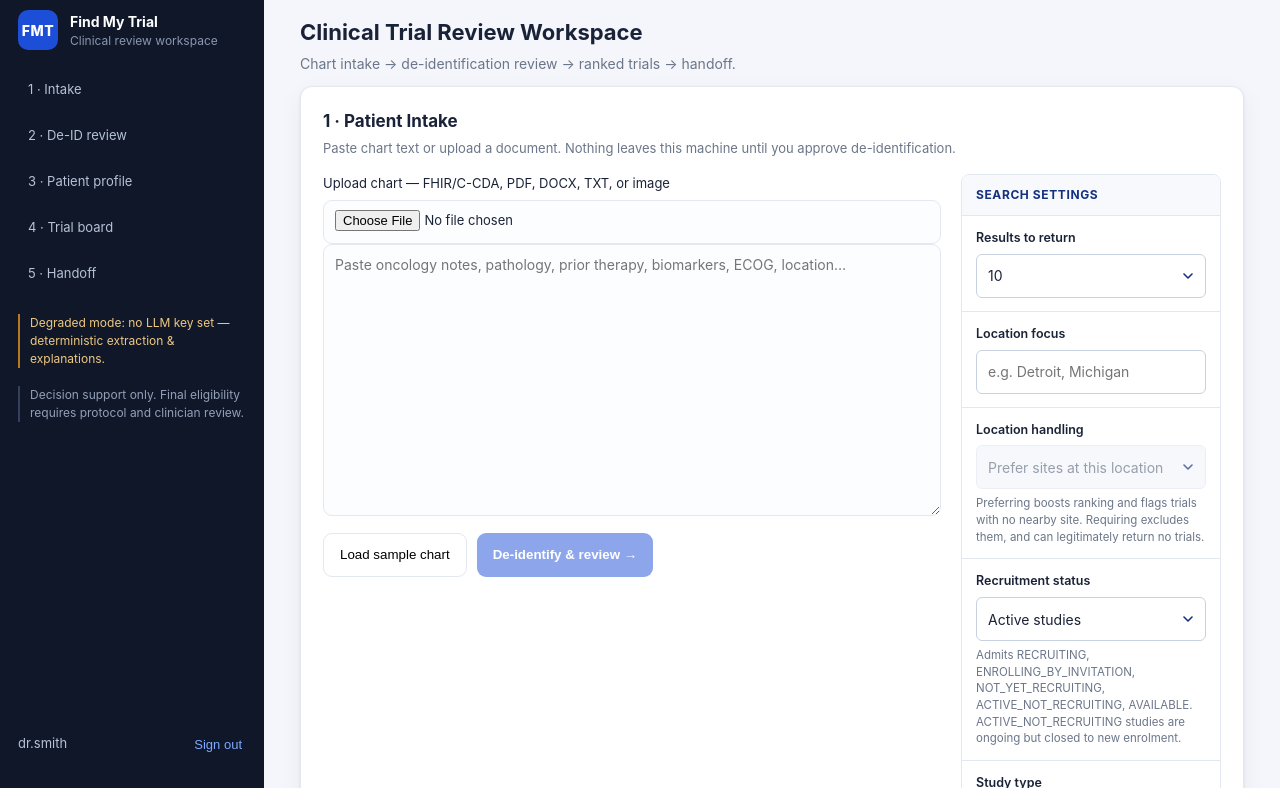
Test: cancel and retry › offers an explicit retry that re-issues the failed request
Expected: the heading "Clinical Trial Review Workspace" is shown, [300,19,643,45]
Replace the text in the text box named "chart text" with "chart" at (632, 380), box [323,244,941,516]
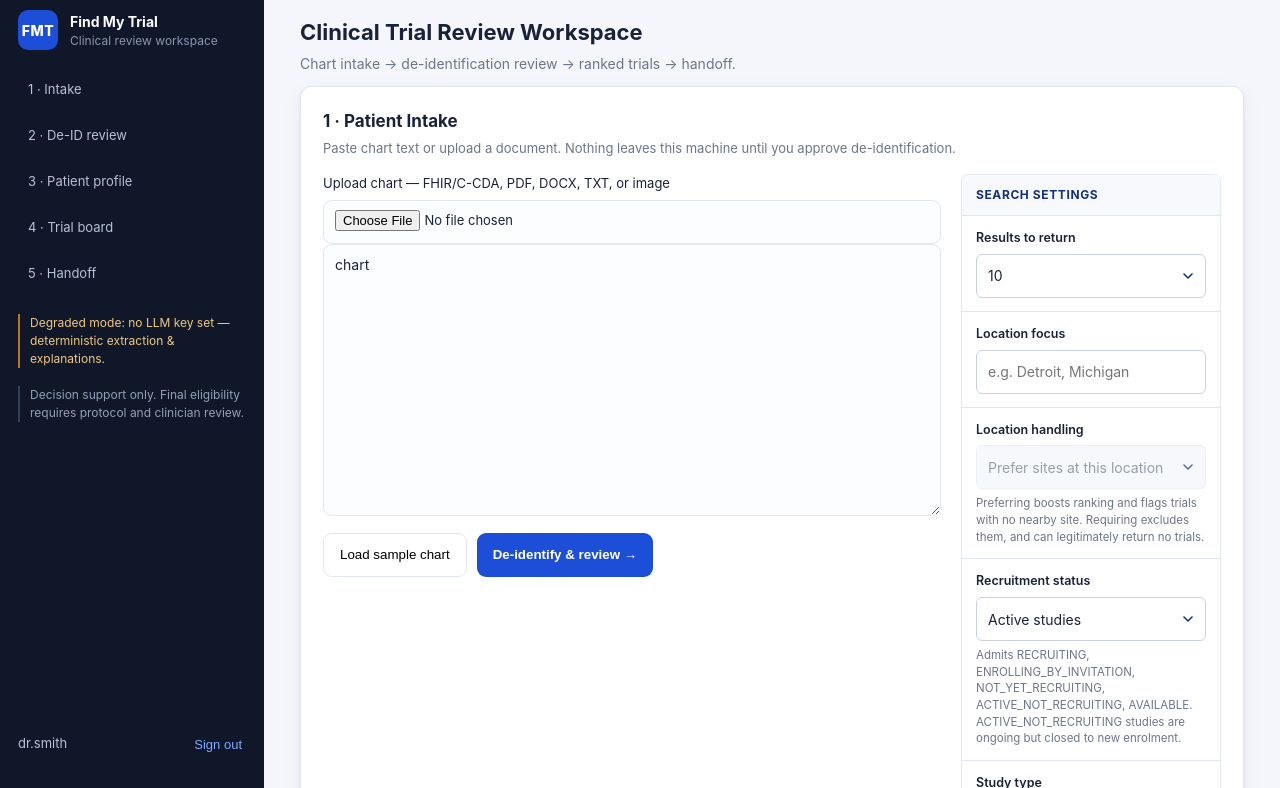
Click the button "De-identify & review →" at (565, 554), box [477,532,653,576]
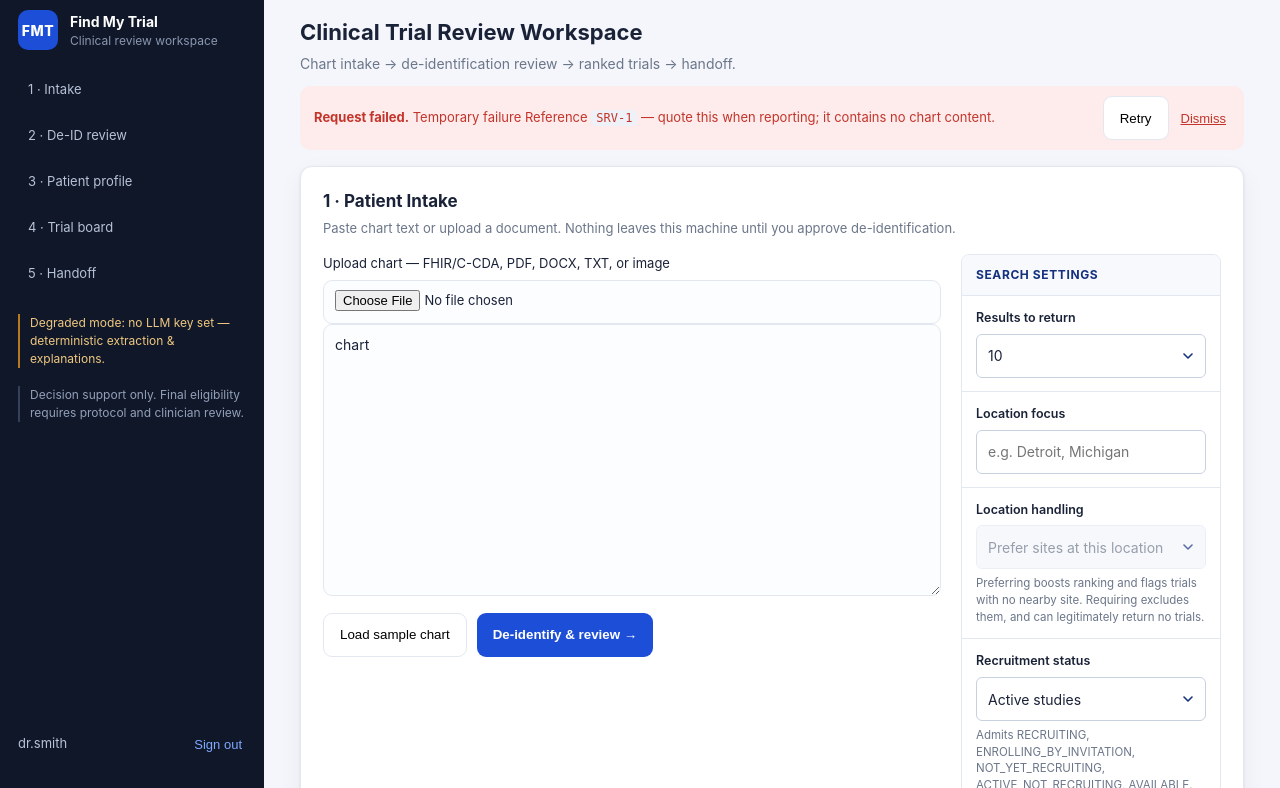
Click the button "Retry" at (1136, 118), box [1103,96,1168,140]
(page scrolled)
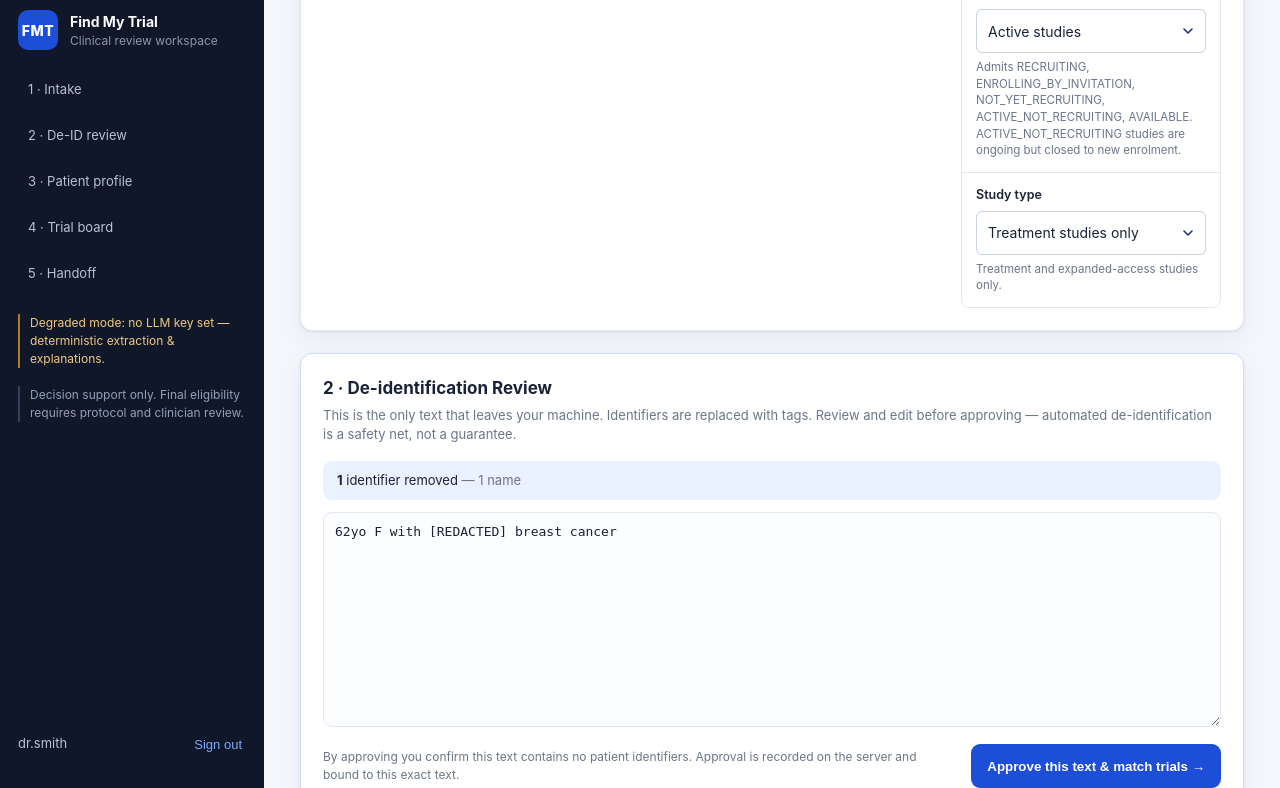
Expected: the heading "2 · De-identification Review" is shown, [323,378,552,398]
